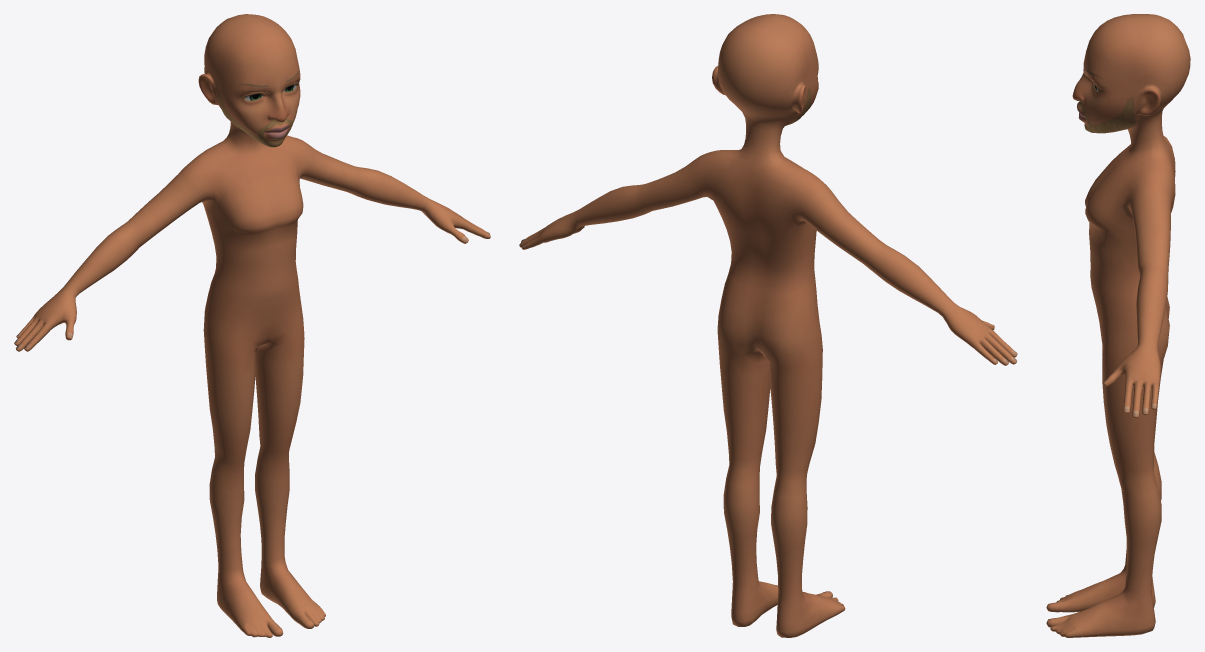
File: frame_0015.glb
The picture shows the model from 3 angles, left to right: view 1: azimuth 30°, elevation 25°; view 2: azimuth 150°, elevation 25°; view 3: azimuth 270°, elevation 25°; orthographic projection. The views are drawn at different scales.
Parts seen in each view (by area): view 1: frame_0015_head_geo; view 2: frame_0015_head_geo; view 3: frame_0015_head_geo.
Part boxes in pixels (x1,y1,x2,y2): frame_0015_head_geo: (14, 14, 490, 637); frame_0015_head_geo: (519, 14, 1017, 637); frame_0015_head_geo: (1046, 14, 1190, 637).
Bounding box in the file's own units: 1.28 × 1.5 × 0.3253.
3 materials, 3 textured.
